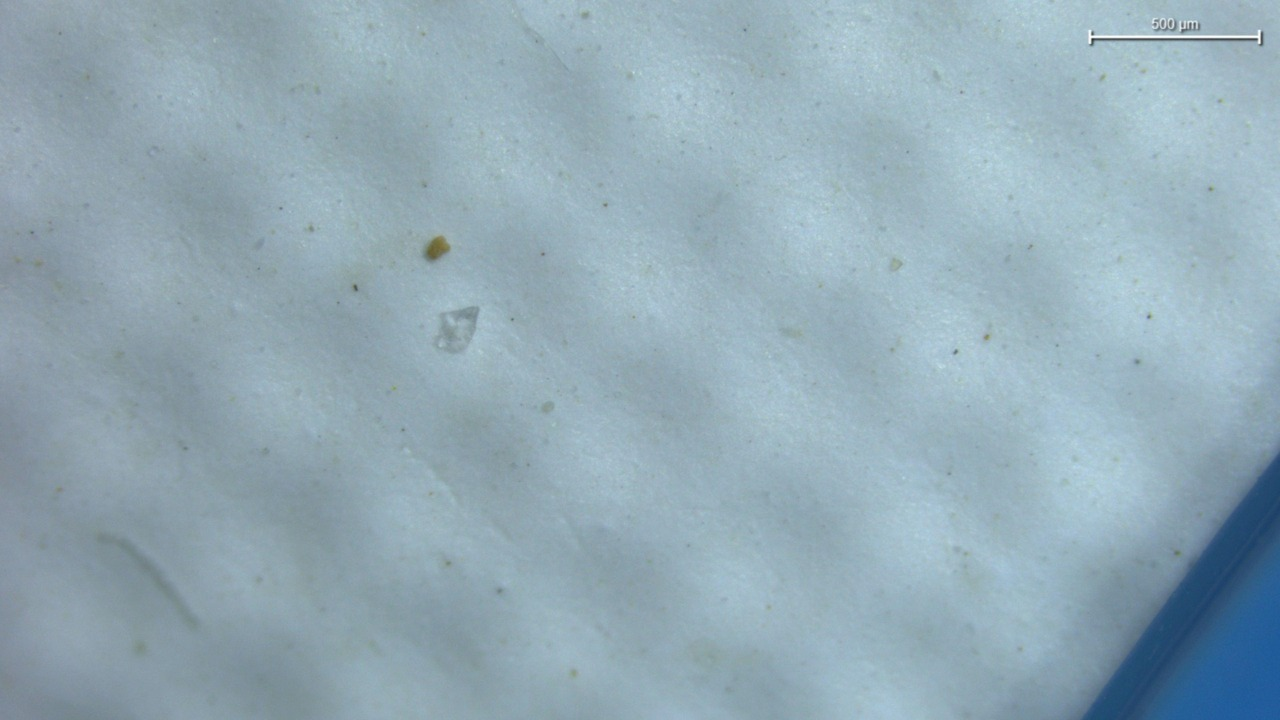microplastic_fragment: (435, 306, 479, 353)
